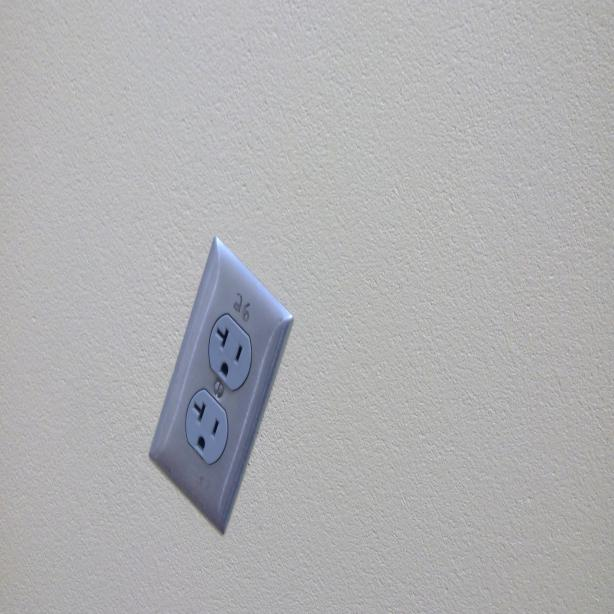typeb: (185, 394, 226, 468), (211, 321, 250, 389)
